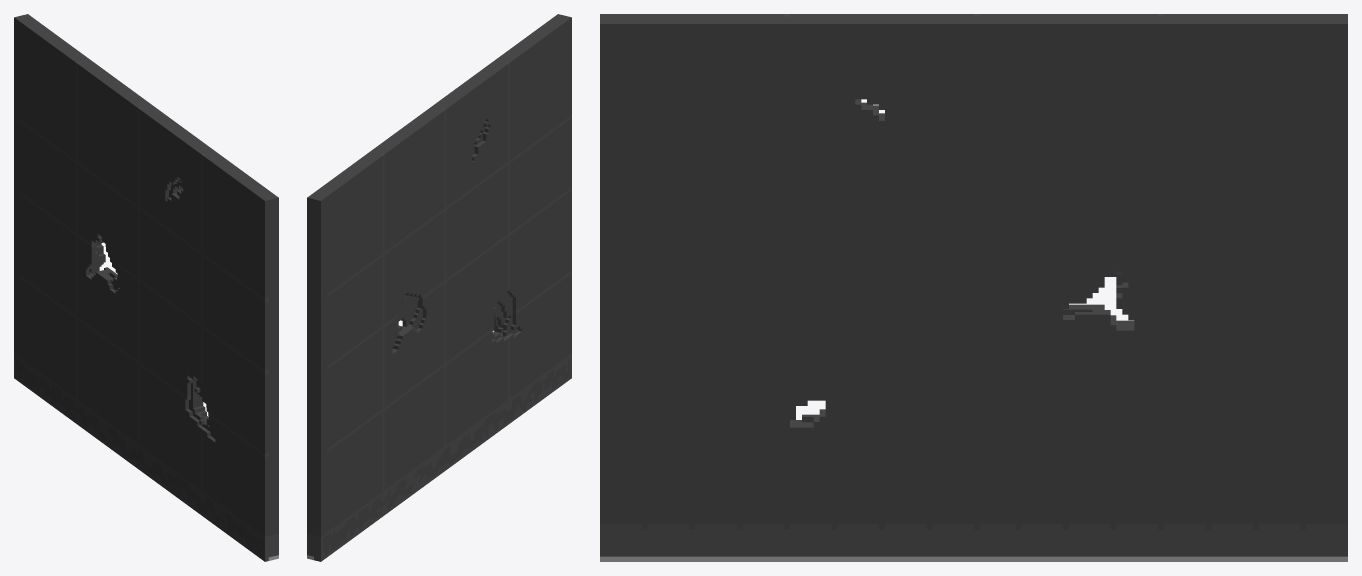
The model's file is wall04.obj.
3 views of the same model, side by side, from view 1: azimuth 30°, elevation 25°; view 2: azimuth 150°, elevation 25°; view 3: azimuth 270°, elevation 25° (orthographic). The views are drawn at different scales.
Bounding box in the file's own units: 0.4 × 10 × 12.6.
1 material, 1 textured.
